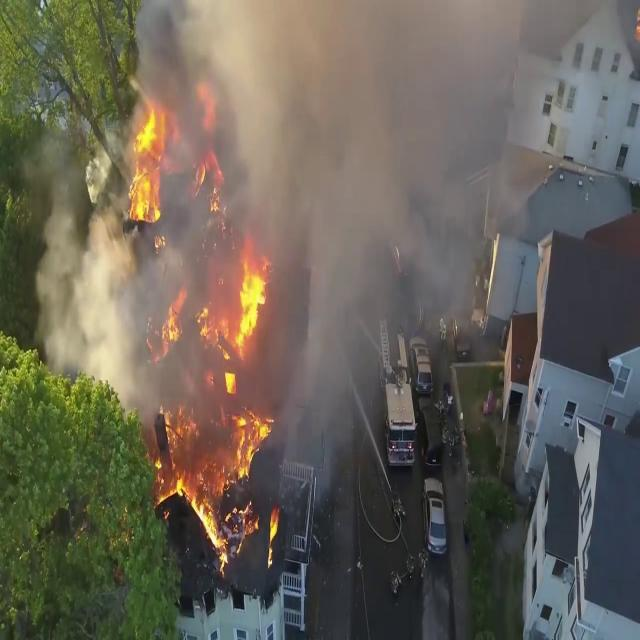Fire: (148, 309, 274, 554), (208, 246, 277, 481), (124, 100, 170, 227)
Smoke: (180, 0, 556, 374), (32, 204, 198, 393)
